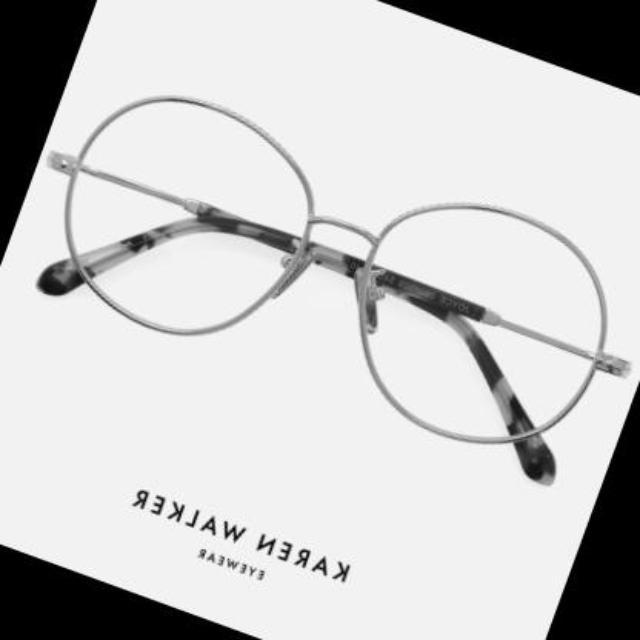glasses: (50, 97, 623, 492)
